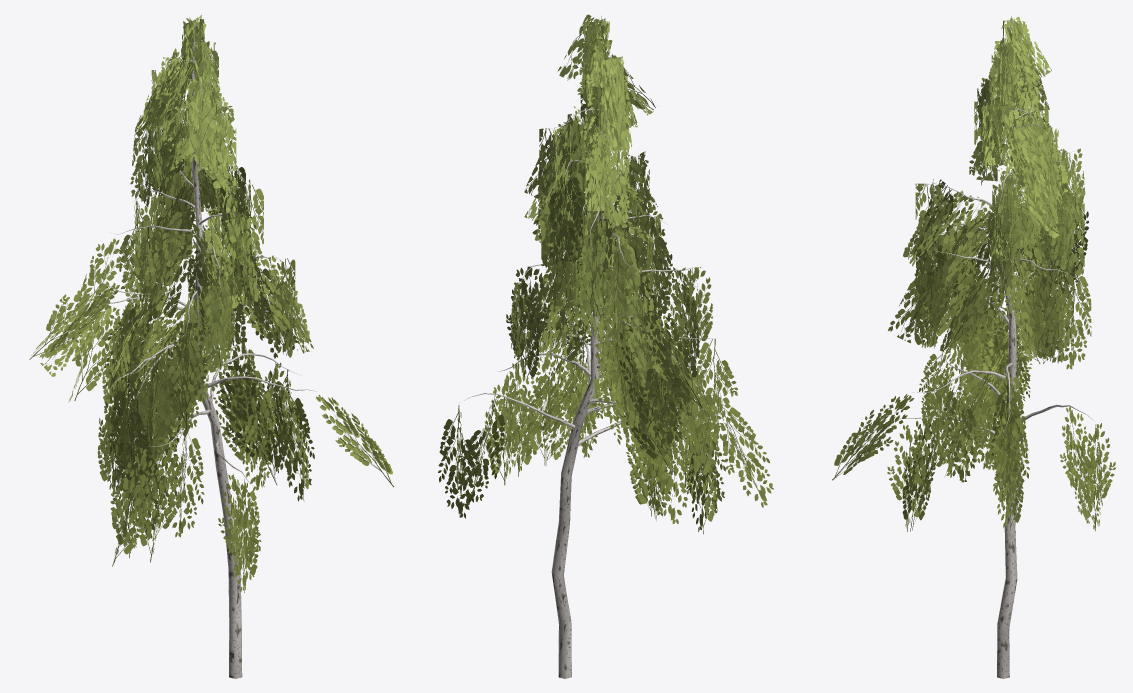
Rendered from birch_tree_1.gltf.
3 renders of one model, left to right at view 1: azimuth 30°, elevation 25°; view 2: azimuth 150°, elevation 25°; view 3: azimuth 270°, elevation 25°, orthographic. The views are drawn at different scales.
Parts seen in each view (by area): view 1: birch_tree_1; view 2: birch_tree_1; view 3: birch_tree_1.
Boxes of the visible parts, x1,y1,x2,y2 form: birch_tree_1: (29, 14, 393, 678); birch_tree_1: (438, 14, 773, 678); birch_tree_1: (832, 16, 1115, 678).
Bounding box in the file's own units: 3.88 × 9.16 × 3.88.
2 materials, 2 textured.
